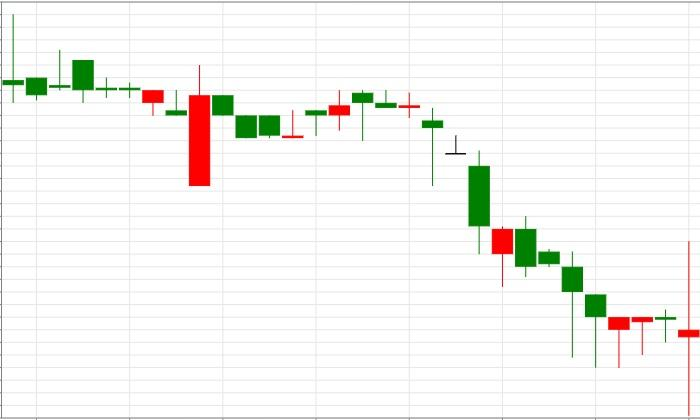hammer_rise: (422, 107, 607, 368)
